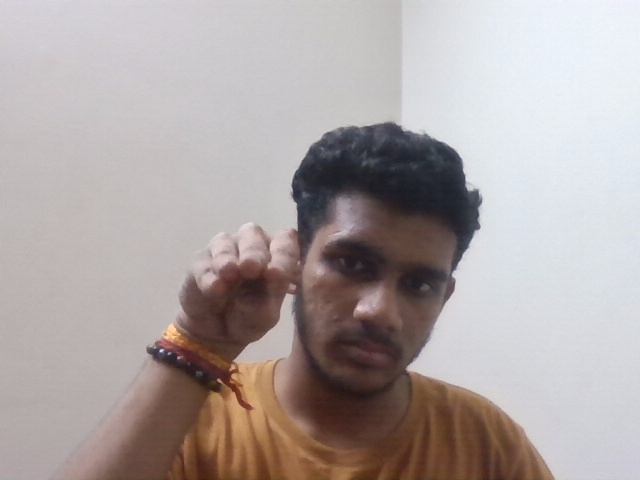no: (155, 200, 341, 367)
